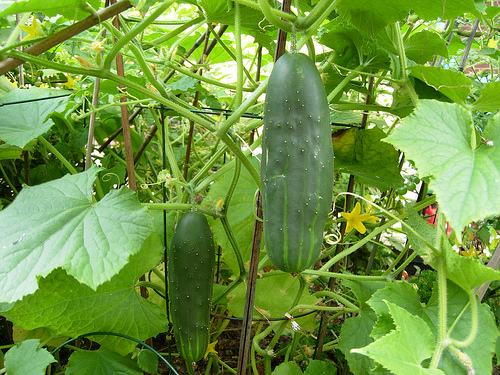cucumber: (260, 51, 335, 278), (168, 210, 215, 364)
